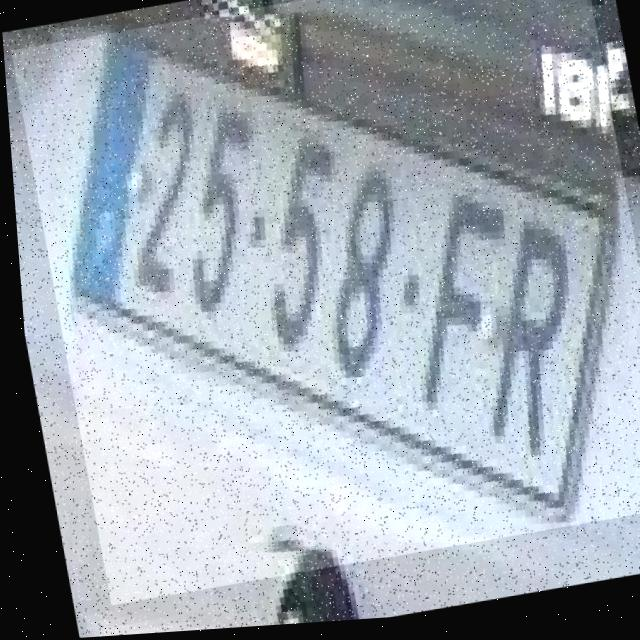LicensePlate: (7, 0, 640, 609)
